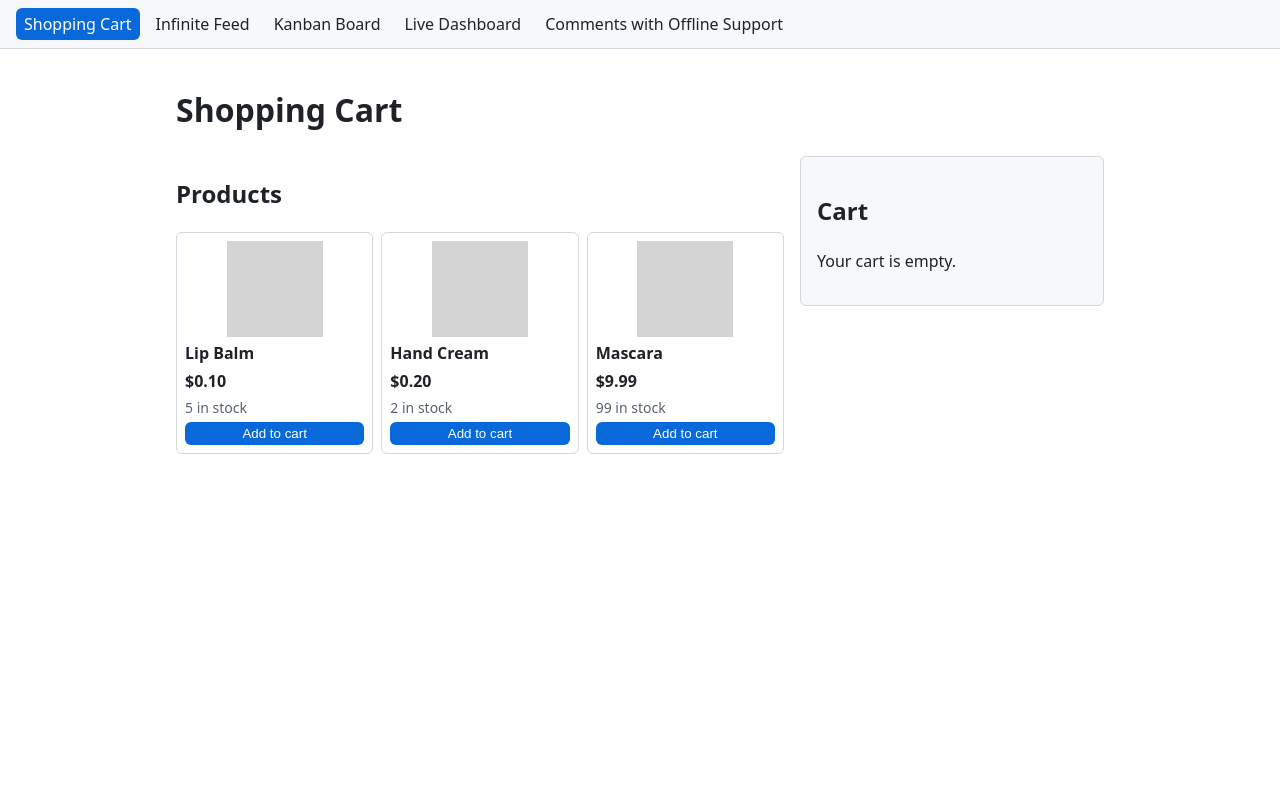
Scenario: app routes › opens the Infinite Feed page from its navigation link
This screenshot has width=1280, height=800.
Step 1. Click the link "Infinite Feed" → {"x": 203, "y": 24}, box [148,8,258,40]
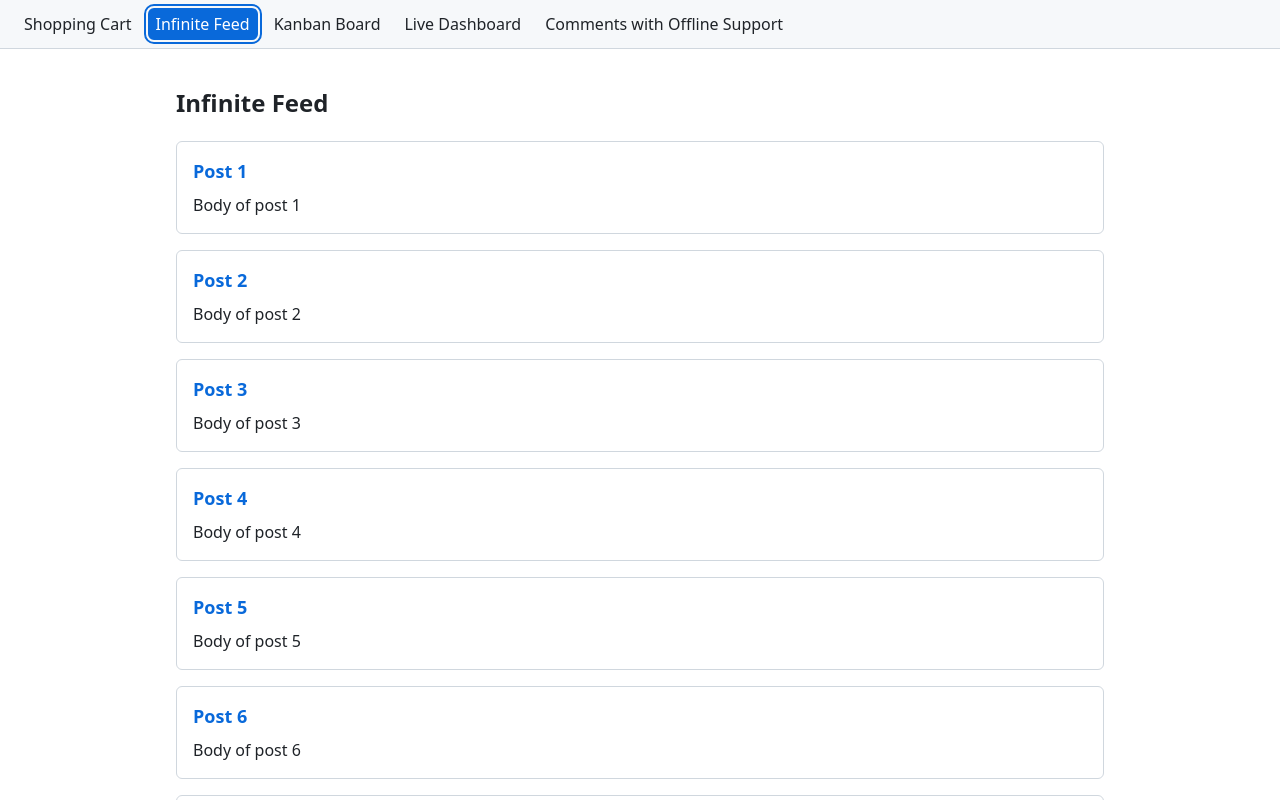
Expected: the heading "Infinite Feed" is shown, [176,86,328,119]
